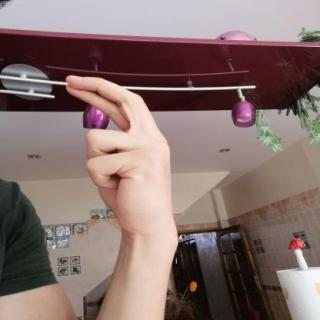ZAY: (52, 68, 185, 241)
